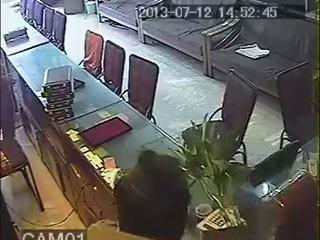Normal: (114, 150, 190, 240)
